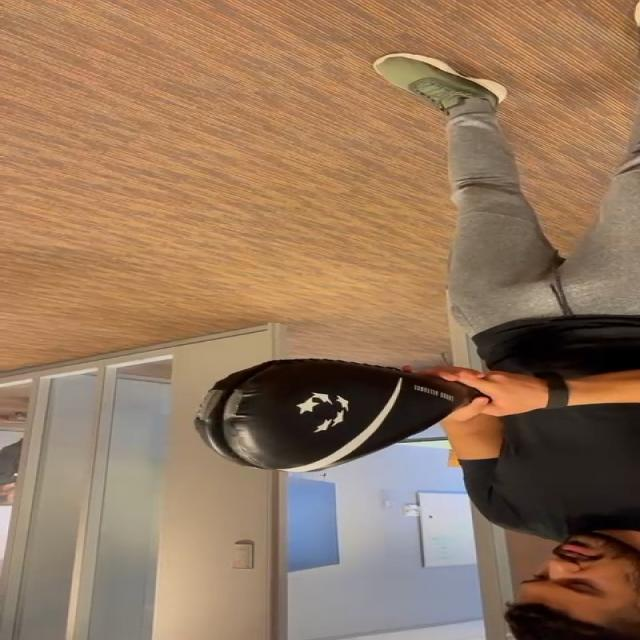paddle: (200, 365, 448, 471)
